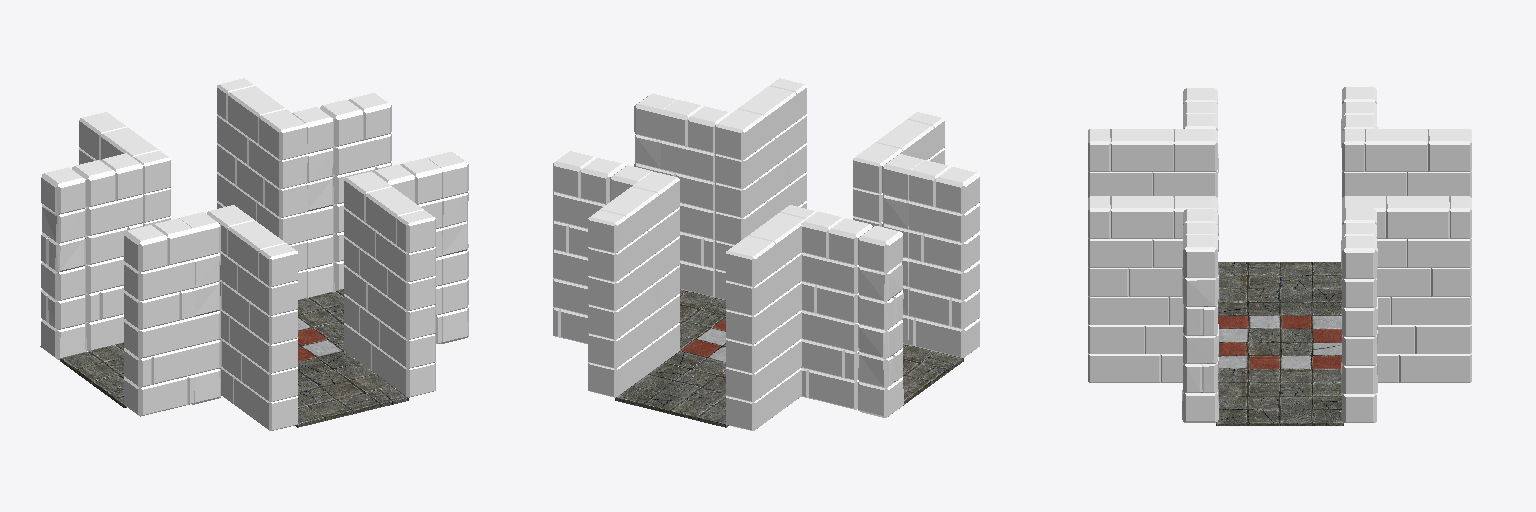
3 renders of one model, left to right at view 1: azimuth 30°, elevation 25°; view 2: azimuth 150°, elevation 25°; view 3: azimuth 270°, elevation 25°, orthographic.
Parts seen in each view (by area): view 1: Box4139, Box4149, Box001ui004, Box3456, Box001ui, Box4145, Box001ui005, Box030, Box4152, Box4151, Box4148, Box3458 (+4 smaller); view 2: Box3456, Box3458, Box001ui004, Box4139, Box001ui, Box4145, Box001ui006, Box001ui005, Box4140, Box4149, Box4148, Box4152 (+4 smaller); view 3: Box4139, Box3456, Box4149, Box3458, Box026, Box001ui005, Box4152, Box024, Box00234, Box001ui, Box001ui006, Box001ui004 (+3 smaller).
Boxes of the visible parts, <box> form: Box4139: <box>344,171,435,397</box>; Box4149: <box>207,205,297,430</box>; Box001ui004: <box>124,218,194,416</box>; Box3456: <box>217,78,308,299</box>; Box001ui: <box>72,153,142,351</box>; Box4145: <box>40,167,86,359</box>; Box001ui005: <box>320,93,391,290</box>; Box030: <box>295,351,408,427</box>; Box4152: <box>427,152,468,343</box>; Box4151: <box>292,107,334,298</box>; Box4148: <box>179,212,220,404</box>; Box3458: <box>79,112,170,226</box>; Box3456: <box>588,172,679,397</box>; Box3458: <box>726,205,815,430</box>; Box001ui004: <box>908,160,979,357</box>; Box4139: <box>715,78,806,299</box>; Box001ui: <box>801,212,872,409</box>; Box4145: <box>858,226,903,417</box>; Box001ui006: <box>660,100,730,297</box>; Box001ui005: <box>553,151,624,343</box>; Box4140: <box>615,351,728,427</box>; Box4149: <box>853,112,944,226</box>; Box4148: <box>882,154,923,345</box>; Box4152: <box>634,93,676,172</box>; Box4139: <box>1088,196,1217,382</box>; Box3456: <box>1342,196,1471,382</box>; Box4149: <box>1088,129,1217,197</box>; Box3458: <box>1342,129,1471,197</box>; Box026: <box>1216,369,1343,425</box>; Box001ui005: <box>1342,223,1376,422</box>; Box4152: <box>1182,235,1218,422</box>; Box024: <box>1218,262,1341,315</box>; Box00234: <box>1218,316,1341,368</box>; Box001ui: <box>1342,102,1376,130</box>; Box001ui006: <box>1183,209,1217,236</box>; Box001ui004: <box>1183,88,1217,116</box>.
Bounding box in the file's own units: 6.12 × 3.08 × 6.04.
3 materials, 2 textured.